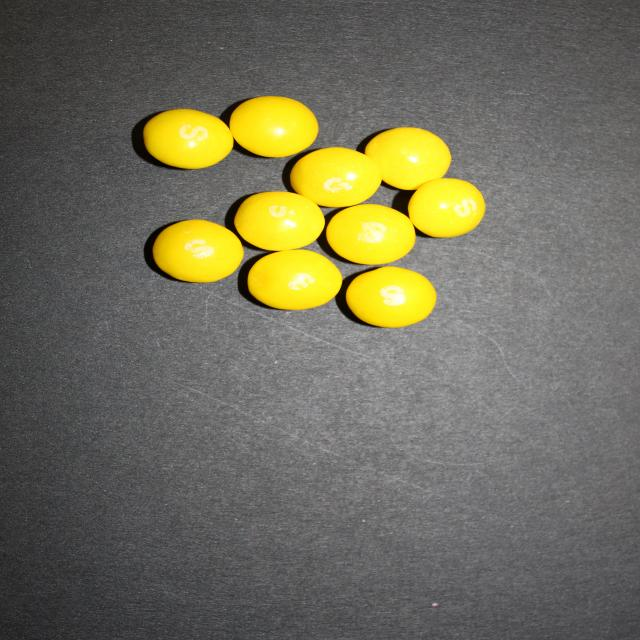smartie: (247, 249, 342, 310), (152, 219, 243, 282), (228, 95, 318, 157), (346, 266, 436, 328), (290, 147, 382, 207), (142, 108, 233, 168), (234, 191, 325, 251), (364, 127, 451, 189), (326, 204, 415, 264), (408, 178, 486, 237)
